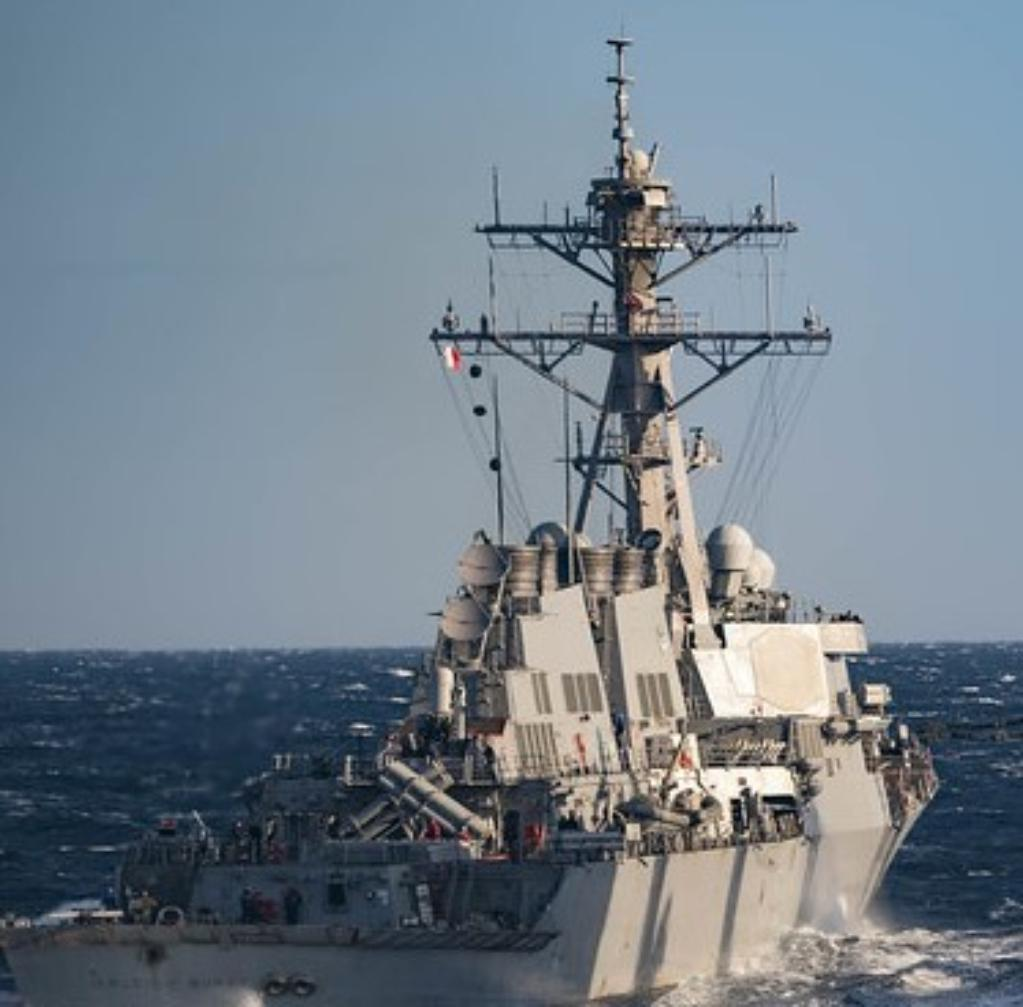Warship: (0, 19, 948, 1007)
